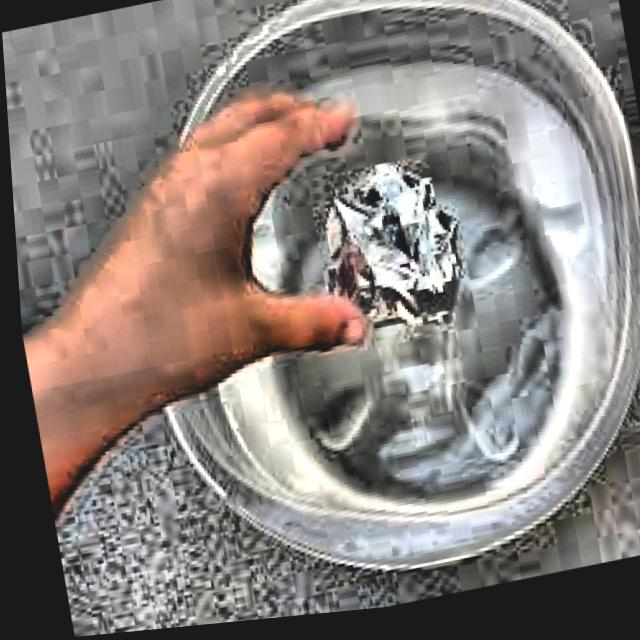Foil: (278, 142, 481, 390)
